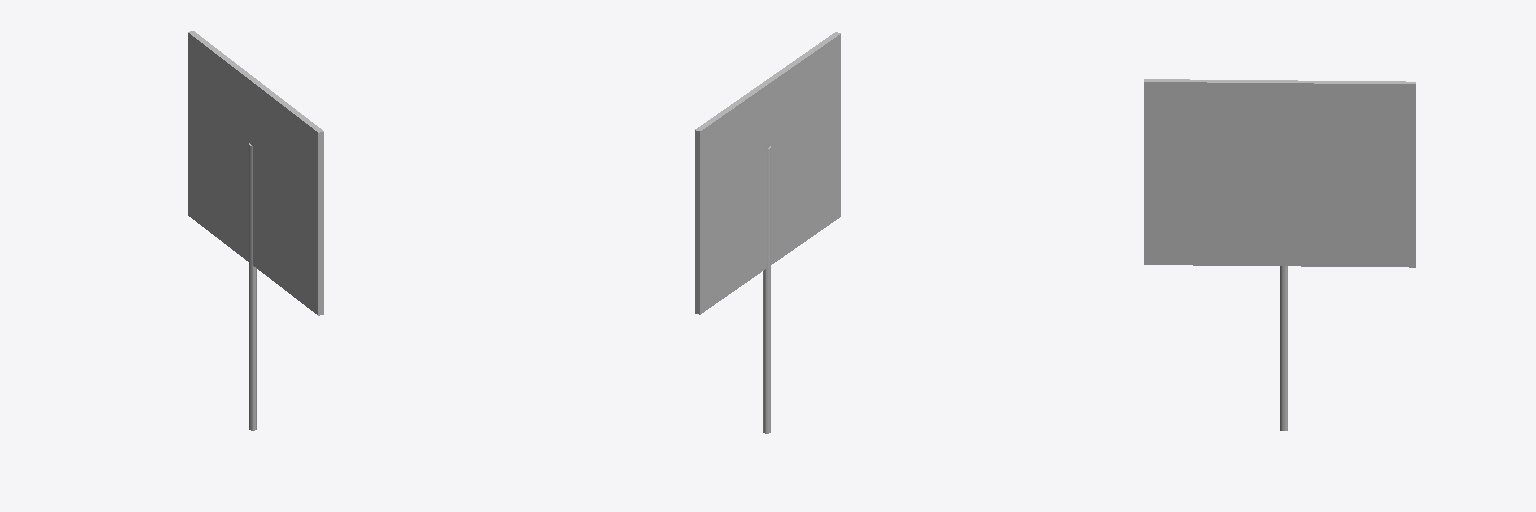
The model's file is board_21.obj.
The picture shows the model from 3 angles: view 1: azimuth 30°, elevation 25°; view 2: azimuth 150°, elevation 25°; view 3: azimuth 270°, elevation 25°; orthographic projection.
Visible parts, largest first — view 1: Cube.026_Cube.027, Cylinder.026; view 2: Cube.026_Cube.027, Cylinder.026; view 3: Cube.026_Cube.027, Cylinder.026.
Part boxes in pixels (left/top/right/bottom): Cube.026_Cube.027: left=188, top=31, right=323, bottom=315; Cylinder.026: left=249, top=143, right=256, bottom=430; Cube.026_Cube.027: left=695, top=32, right=840, bottom=314; Cylinder.026: left=763, top=146, right=770, bottom=433; Cube.026_Cube.027: left=1144, top=79, right=1415, bottom=267; Cylinder.026: left=1280, top=266, right=1287, bottom=430.
Bounding box in the file's own units: 0.0057 × 0.1717 × 0.1215.